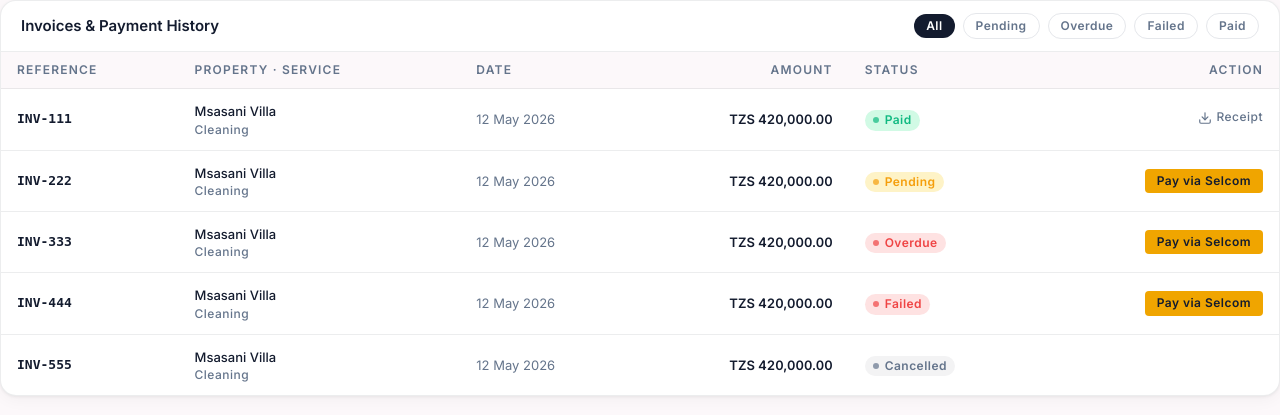
Test case: OwnerInvoicesClient › filters to PENDING only when Pending pill clicked
Click the button "Pending": (1001, 26) [963, 13, 1040, 39]
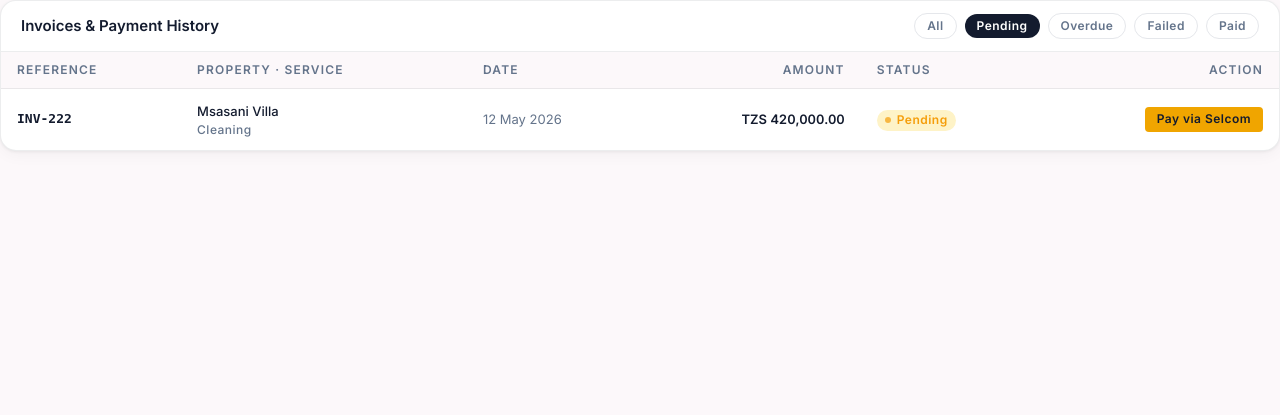
Expected: the text "INV-222" is shown, [1, 89, 181, 150]
Result: the text "INV-111" is gone
Result: the text "INV-555" is gone
